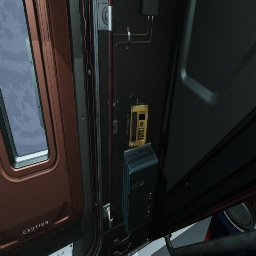EmergencyPhone ,: (126, 94, 148, 147)
